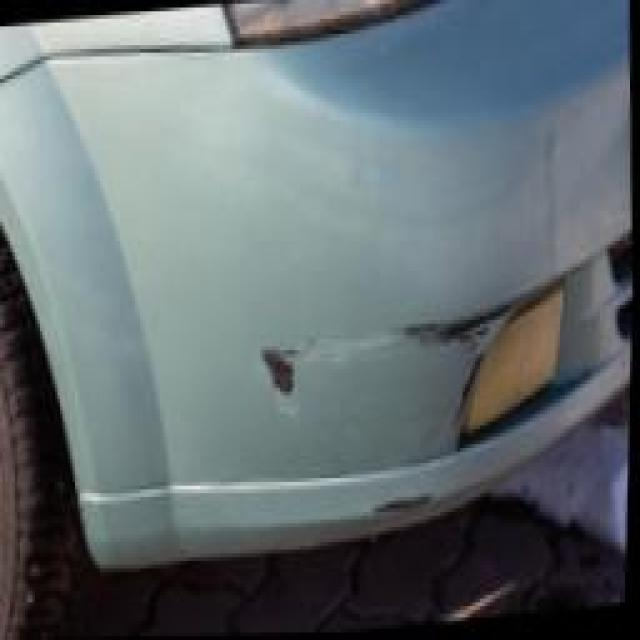Bumper: (235, 264, 563, 544)
